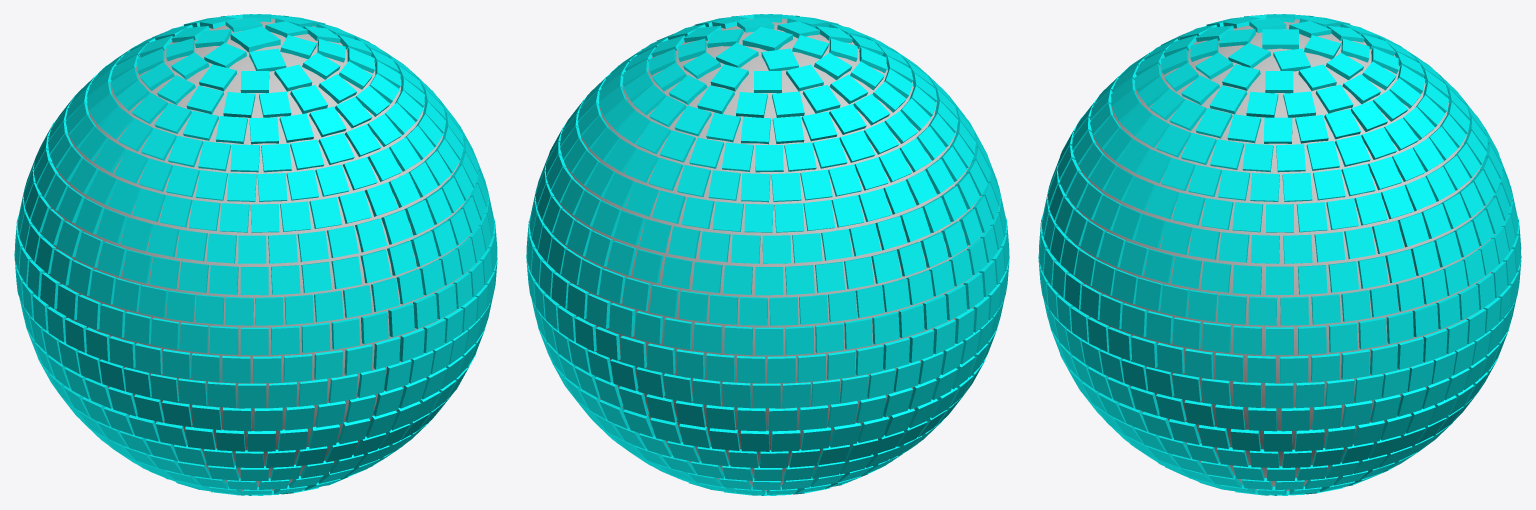
The model's file is god.FBX.
3 views of the same model, side by side, from view 1: azimuth 30°, elevation 25°; view 2: azimuth 150°, elevation 25°; view 3: azimuth 270°, elevation 25° (orthographic).
Visible parts, largest first — view 1: Discosphere, Sphere; view 2: Discosphere, Sphere; view 3: Discosphere, Sphere.
Boxes of the visible parts, x1,y1,x2,y2 form: Discosphere: [14, 14, 497, 495]; Sphere: [35, 18, 479, 491]; Discosphere: [526, 14, 1009, 495]; Sphere: [544, 18, 987, 491]; Discosphere: [1038, 14, 1521, 495]; Sphere: [1065, 19, 1494, 490].
Bounding box in the file's own units: 224 × 223 × 224.
Materials: 2 (1 with a texture image).
